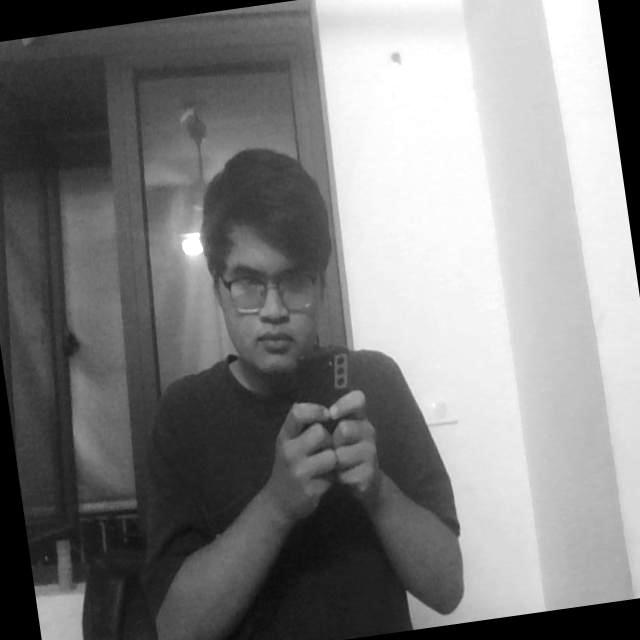phone: (282, 338, 369, 476)
